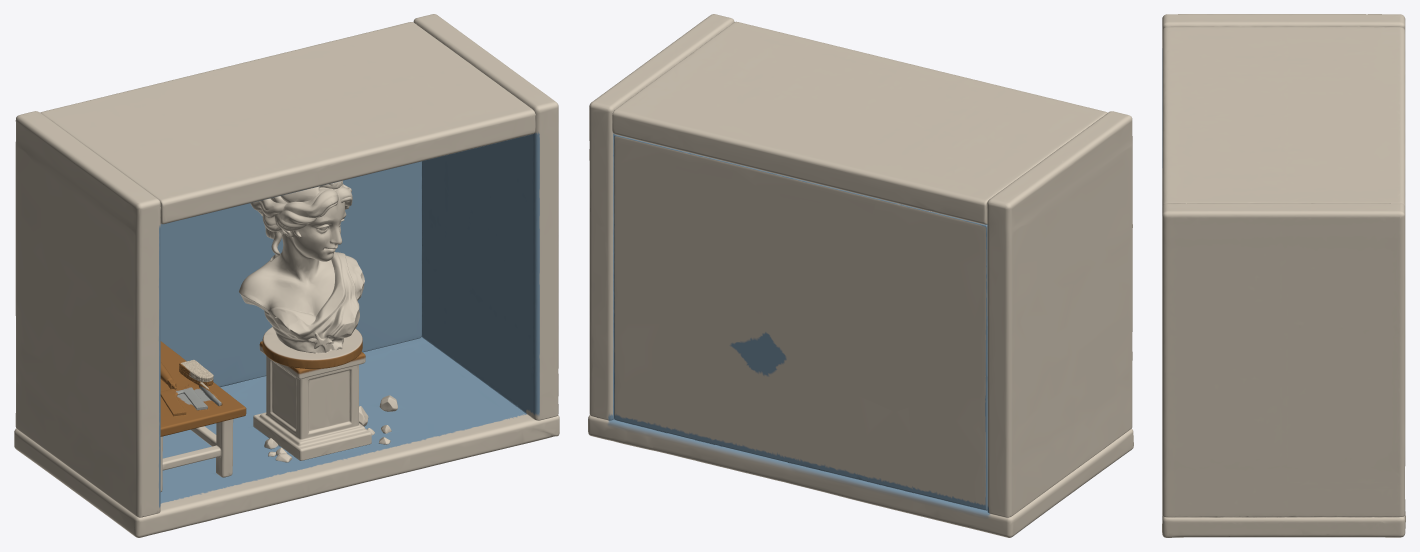
File: classical-room-house-style-v2.glb
3 views of the same model, side by side, from view 1: azimuth 30°, elevation 25°; view 2: azimuth 150°, elevation 25°; view 3: azimuth 270°, elevation 25° (orthographic). The views are drawn at different scales.
Visible parts, largest first — view 1: sculpture-v2-room, sculpture-v2-bust, sculpture-v2-pedestal, sculpture-v2-tools; view 2: sculpture-v2-room; view 3: sculpture-v2-room.
Part boxes in pixels (bbox=[...]): sculpture-v2-room: bbox=[14, 14, 559, 537]; sculpture-v2-bust: bbox=[238, 180, 364, 349]; sculpture-v2-pedestal: bbox=[253, 327, 390, 461]; sculpture-v2-tools: bbox=[160, 341, 246, 491]; sculpture-v2-room: bbox=[588, 14, 1133, 537]; sculpture-v2-room: bbox=[1162, 14, 1405, 537].
Bounding box in the file's own units: 0.9793 × 0.7374 × 0.5001.
